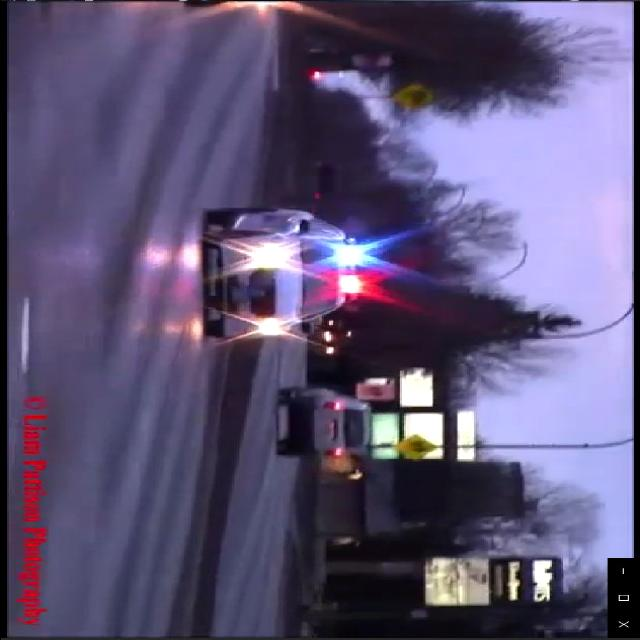emergency: (194, 205, 382, 348)
